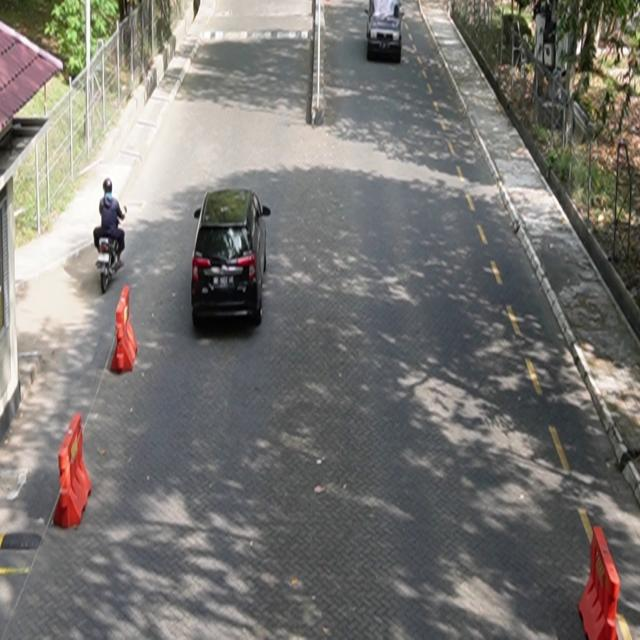car: (192, 188, 272, 328), (366, 1, 404, 63)
